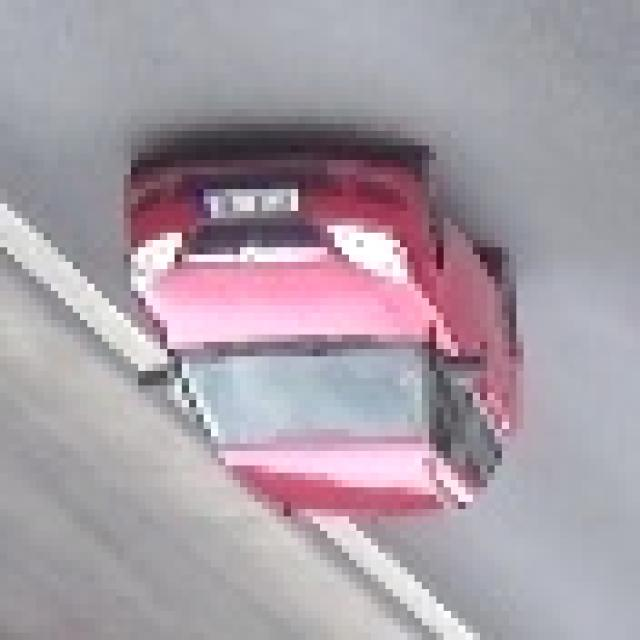red: (123, 139, 532, 517)
